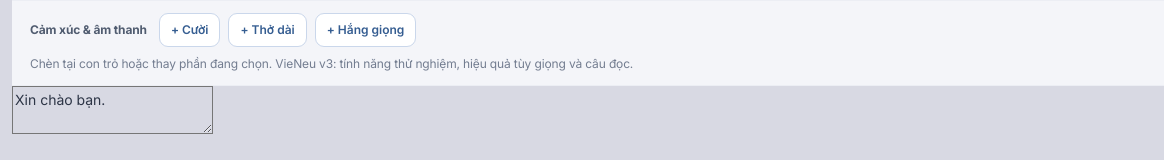
Test case: Expression insertion › replaces selected text and restores caret for consecutive cues
What coordinates should you click on to do the following:
click the text box
I would click on:
 (112, 110)
Its box is [12,86,213,134].
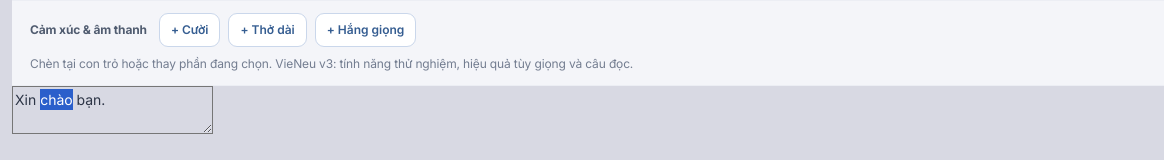
What coordinates should you click on to do the following:
click the button with aria-label "Chèn cười"
I would click on:
 (190, 30)
Its box is [159,13,220,47].
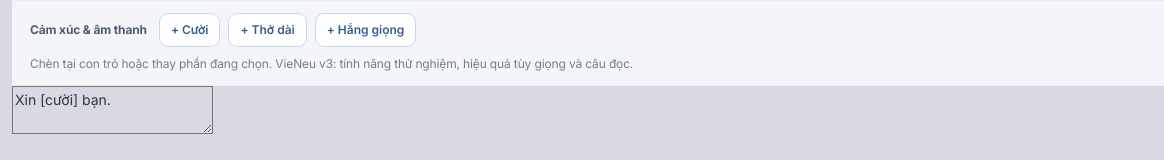
Check: the text box holds "Xin [cười] bạn.", box [12,86,213,134]
What coordinates should you click on to do the following:
click the button with aria-label "Chèn thở dài"
I would click on:
 (268, 30)
Its box is [228,13,307,47].
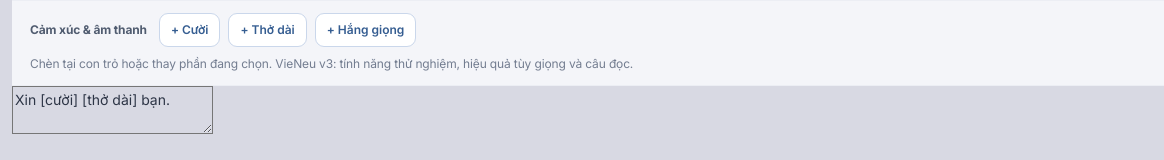
Check: the text box holds "Xin [cười] [thở dài] bạn.", box [12,86,213,134]
